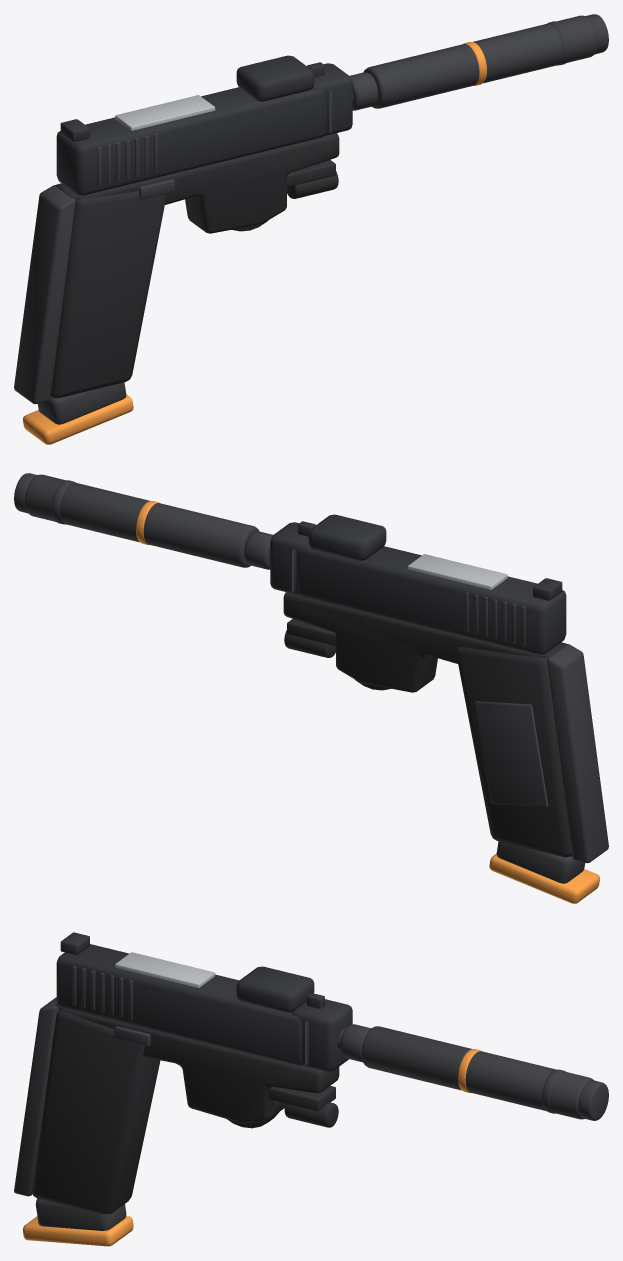
The model's file is pistol.glb.
3 renders of one model, top to bottom at view 1: azimuth 30°, elevation 25°; view 2: azimuth 150°, elevation 25°; view 3: azimuth 330°, elevation 25°, orthographic.
Visible parts, largest first — view 1: Grip, Slide, Frame, Suppressor, BackStrap, SlideBlock, MagFloorPlate, Magazine, BarrelLug, EjectionPort, Adapter, Rail (+1 smaller); view 2: Slide, Grip, Frame, Suppressor, BackStrap, GripPanelL, SlideBlock, MagFloorPlate, Magazine, BarrelLug, EjectionPort, Adapter (+2 smaller); view 3: Grip, Slide, Frame, Suppressor, BackStrap, BarrelLug, SlideBlock, Magazine, MagFloorPlate, EjectionPort, Rail, SuppTip (+4 smaller).
Boxes of the visible parts, x1,y1,x2,y2 form: Grip: [50, 191, 166, 398]; Slide: [56, 87, 325, 195]; Frame: [55, 133, 339, 233]; Suppressor: [363, 15, 597, 108]; BackStrap: [14, 185, 75, 404]; SlideBlock: [236, 55, 314, 101]; MagFloorPlate: [23, 394, 133, 444]; Magazine: [37, 382, 126, 424]; BarrelLug: [312, 63, 352, 135]; EjectionPort: [115, 95, 215, 130]; Adapter: [350, 72, 378, 110]; Rail: [287, 160, 335, 187]; Slide: [297, 546, 566, 654]; Grip: [456, 646, 572, 857]; Frame: [283, 592, 567, 692]; Suppressor: [25, 474, 259, 567]; BackStrap: [547, 644, 608, 863]; GripPanelL: [474, 701, 548, 806]; SlideBlock: [308, 514, 386, 560]; MagFloorPlate: [489, 853, 599, 903]; Magazine: [496, 841, 585, 883]; BarrelLug: [270, 522, 310, 594]; EjectionPort: [407, 554, 507, 589]; Adapter: [244, 531, 272, 569]; Grip: [32, 1009, 160, 1214]; Slide: [56, 944, 302, 1065]; Frame: [55, 1003, 339, 1123]; Suppressor: [361, 1026, 593, 1119]; BackStrap: [14, 997, 59, 1196]; BarrelLug: [291, 999, 352, 1071]; SlideBlock: [236, 966, 314, 1012]; Magazine: [35, 1198, 126, 1230]; MagFloorPlate: [23, 1216, 133, 1246]; EjectionPort: [115, 952, 215, 987]; Rail: [268, 1085, 335, 1111]; SuppTip: [578, 1080, 608, 1120].
Size of what is drawn, in the model's own units: 0.3977 by 0.2053 by 0.0325.
